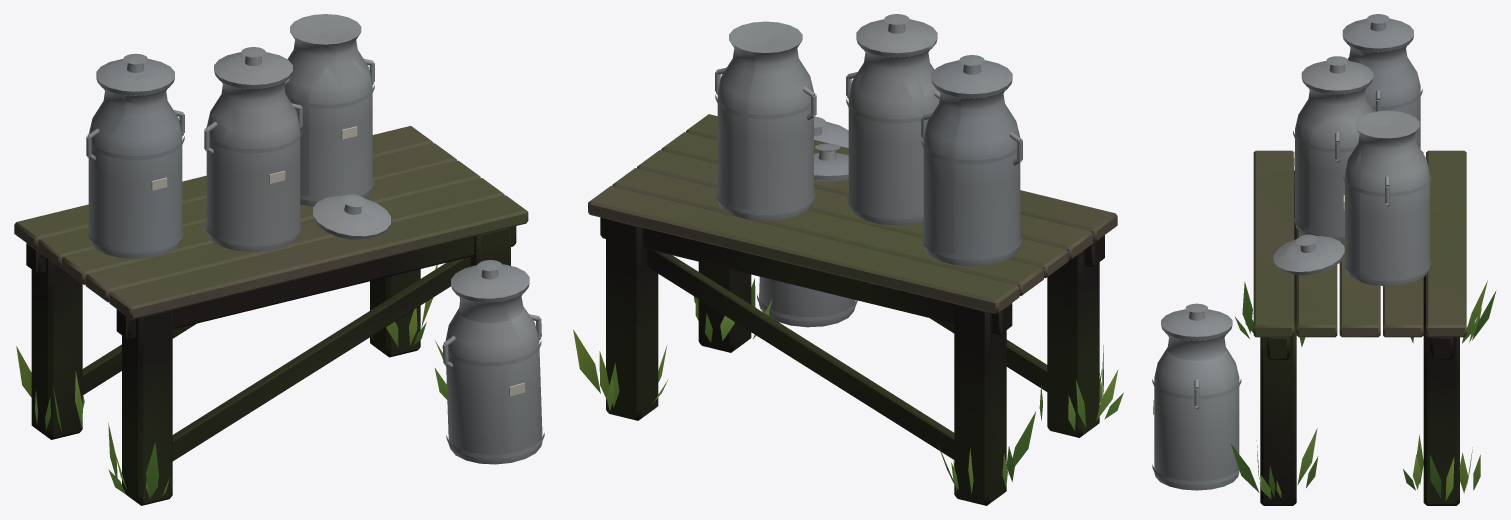
Rendered from milk_churn_stand.glb.
3 renders of one model, left to right at view 1: azimuth 30°, elevation 25°; view 2: azimuth 150°, elevation 25°; view 3: azimuth 270°, elevation 25°, orthographic. The views are drawn at different scales.
Visible parts, largest first — view 1: Body, Grass; view 2: Body, Grass; view 3: Body, Grass.
Part boxes in pixels (left/top/right/bottom): Body: left=14, top=14, right=544, bottom=505; Grass: left=16, top=265, right=447, bottom=498; Body: left=588, top=14, right=1117, bottom=505; Grass: left=573, top=278, right=1123, bottom=493; Body: left=1152, top=14, right=1466, bottom=505; Grass: left=1231, top=280, right=1496, bottom=501.
Size of the model in its own units: 2 by 1.71 by 1.52.
